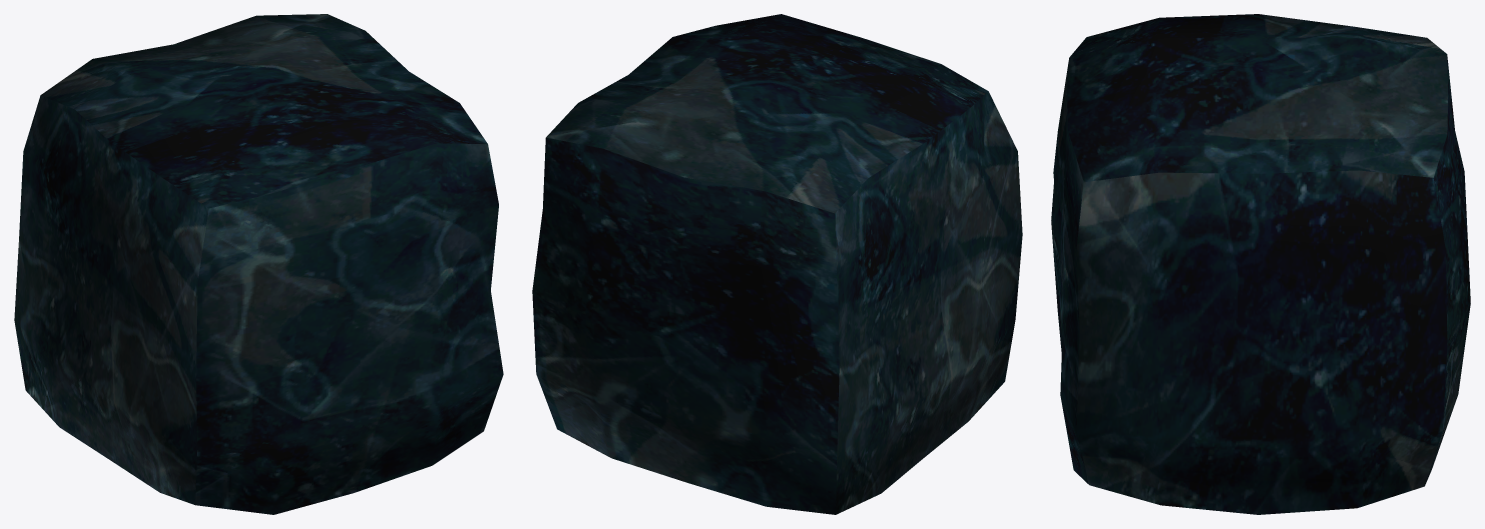
Rendered from imblock.obj.
3 views of the same model, side by side, from view 1: azimuth 30°, elevation 25°; view 2: azimuth 150°, elevation 25°; view 3: azimuth 270°, elevation 25° (orthographic). The views are drawn at different scales.
Parts seen in each view (by area): view 1: block; view 2: block; view 3: block.
Part boxes in pixels (bbox=[...]): block: bbox=[14, 14, 503, 514]; block: bbox=[532, 14, 1022, 514]; block: bbox=[1051, 14, 1470, 514].
Size of the model in its own units: 0.583 by 0.5834 by 0.5998.
Materials: 1 (1 with a texture image).
